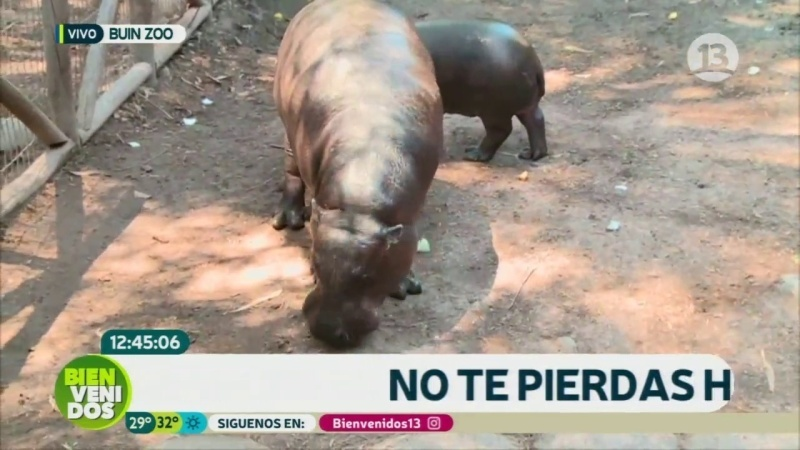hipopotamo: (262, 1, 438, 356), (398, 9, 578, 173)
